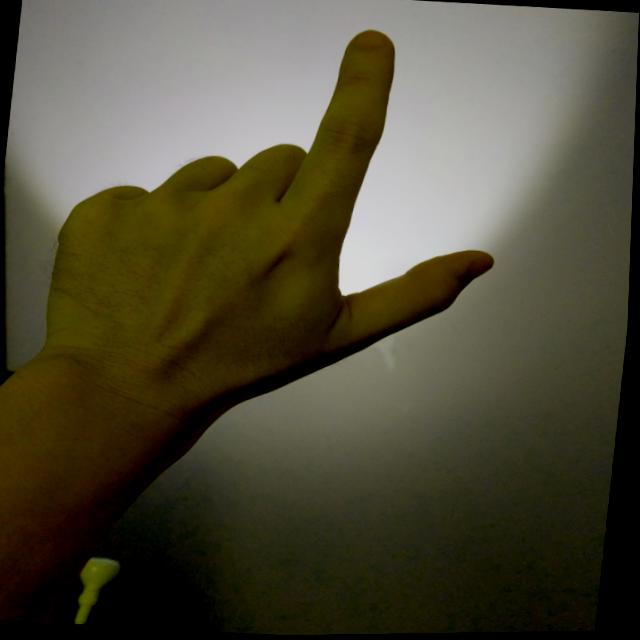L: (27, 1, 531, 440)
